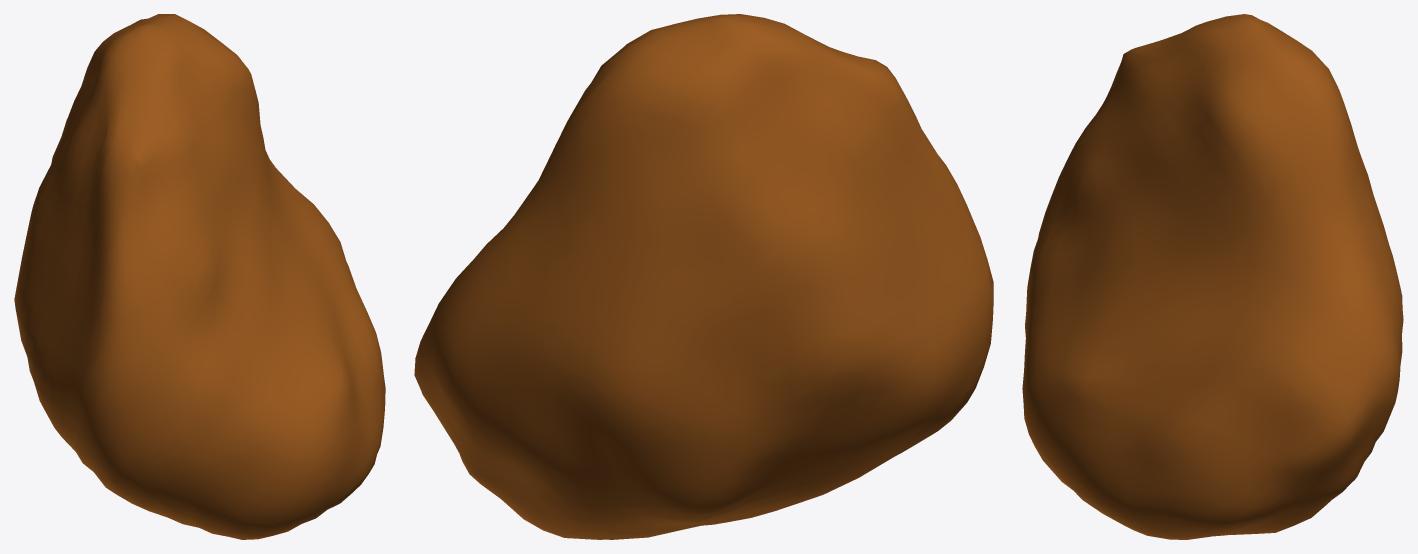
File: stone3.fbx
The picture shows the model from 3 angles, left to right: view 1: azimuth 30°, elevation 25°; view 2: azimuth 150°, elevation 25°; view 3: azimuth 270°, elevation 25°; orthographic projection. The views are drawn at different scales.
Parts seen in each view (by area): view 1: rock.001; view 2: rock.001; view 3: rock.001.
Boxes of the visible parts, x1,y1,x2,y2 form: rock.001: [14, 14, 385, 539]; rock.001: [414, 14, 993, 539]; rock.001: [1022, 14, 1403, 539].
Bounding box in the file's own units: 57.99 × 71.42 × 53.66.
